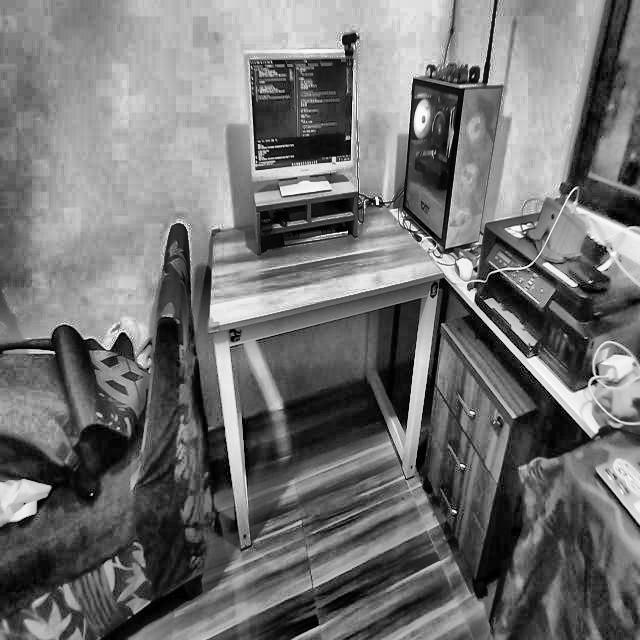mesa: (206, 200, 442, 519)
